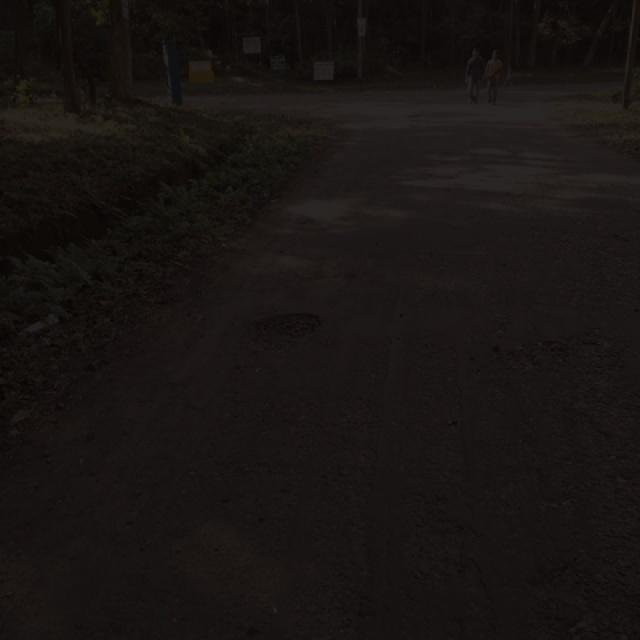Pothole: (492, 335, 572, 374), (243, 309, 326, 343)
